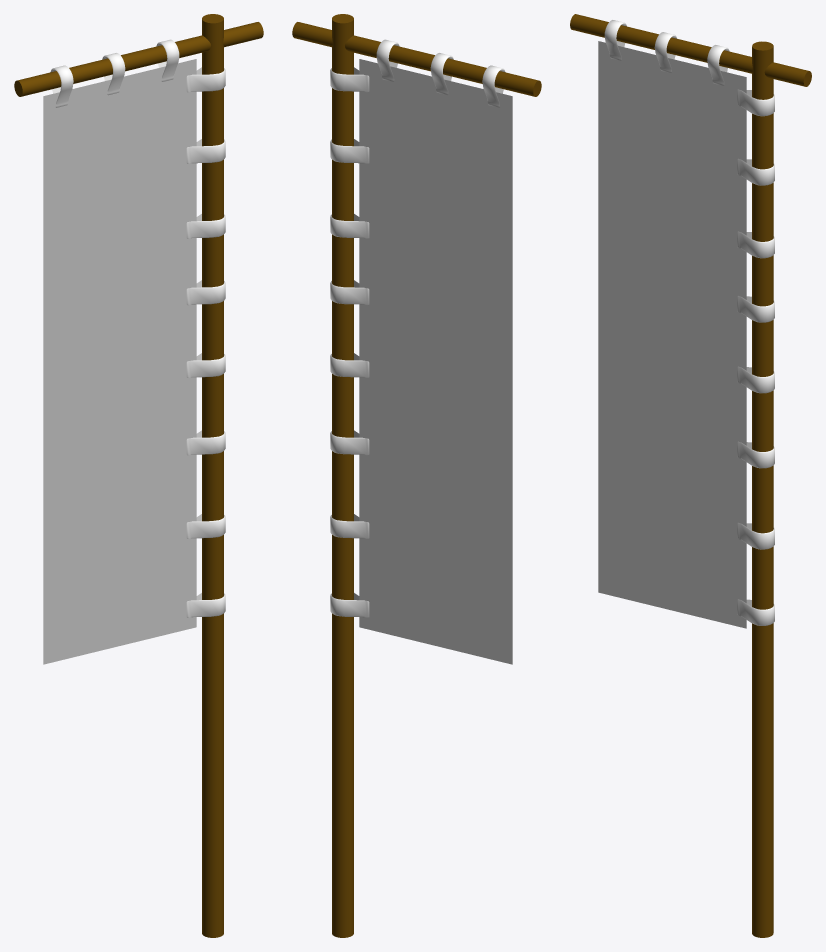
Rendered from SM_Hata_small.fbx.
The picture shows the model from 3 angles, left to right: view 1: azimuth 30°, elevation 25°; view 2: azimuth 150°, elevation 25°; view 3: azimuth 330°, elevation 25°; orthographic projection. The views are drawn at different scales.
Parts seen in each view (by area): view 1: obj4; view 2: obj4; view 3: obj4.
Part boxes in pixels (x1,y1,x2,y2): obj4: [14, 14, 263, 937]; obj4: [292, 14, 541, 937]; obj4: [570, 14, 811, 937].
Size of the model in its own units: 73.15 by 265 by 6.65.
